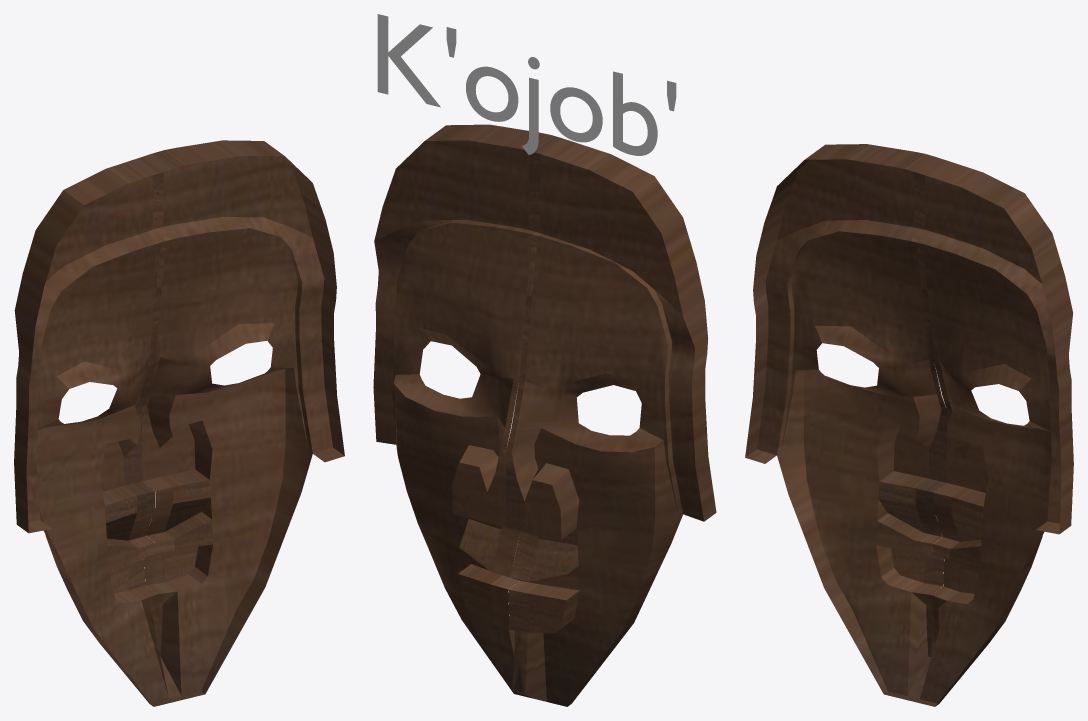
Rendered from Máscara-v2.glb.
The picture shows the model from 3 angles, left to right: view 1: azimuth 30°, elevation 25°; view 2: azimuth 150°, elevation 25°; view 3: azimuth 330°, elevation 25°; orthographic projection. The views are drawn at different scales.
Visible parts, largest first — view 1: Plane; view 2: Plane, Text; view 3: Plane.
Boxes of the visible parts, x1,y1,x2,y2 form: Plane: (14, 140, 344, 706); Plane: (373, 124, 716, 706); Text: (377, 14, 676, 155); Plane: (745, 144, 1073, 706).
Bounding box in the file's own units: 3 × 5.81 × 0.7714.
Materials: 1 (1 with a texture image).
